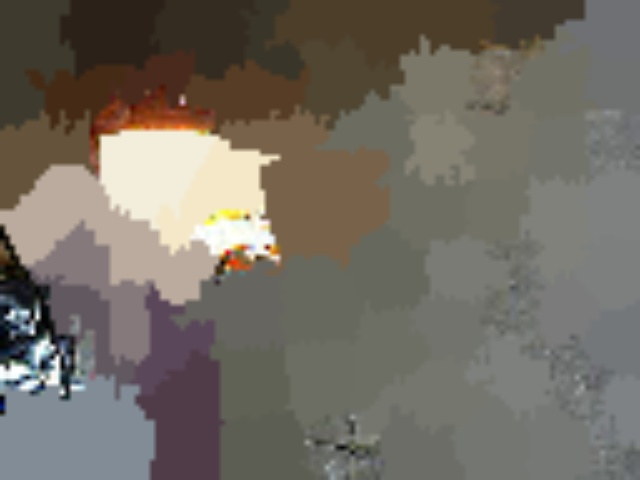two: (21, 188, 67, 224)
